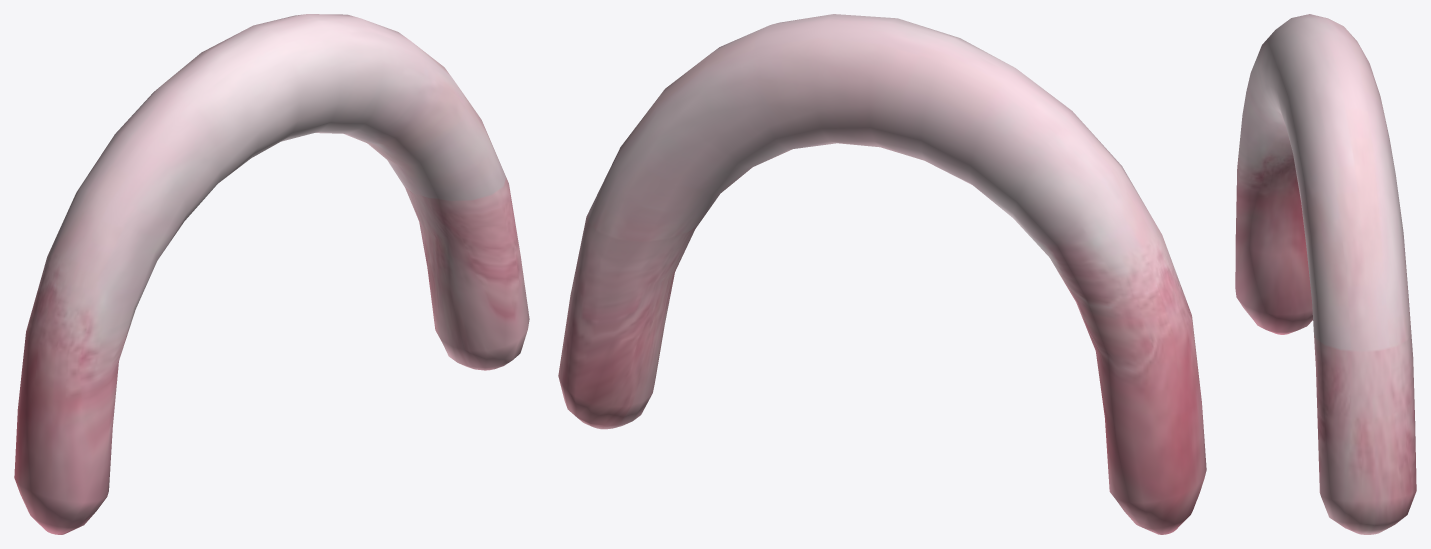
File: Arco.fbx
The picture shows the model from 3 angles, left to right: view 1: azimuth 30°, elevation 25°; view 2: azimuth 150°, elevation 25°; view 3: azimuth 270°, elevation 25°; orthographic projection. The views are drawn at different scales.
Visible parts, largest first — view 1: Cylinder; view 2: Cylinder; view 3: Cylinder.
Boxes of the visible parts, x1,y1,x2,y2 form: Cylinder: (14,14,529,534); Cylinder: (558,14,1206,534); Cylinder: (1235,14,1416,534).
Size of the model in its own units: 46.64 by 35.48 by 14.41.
1 material, 1 textured.
